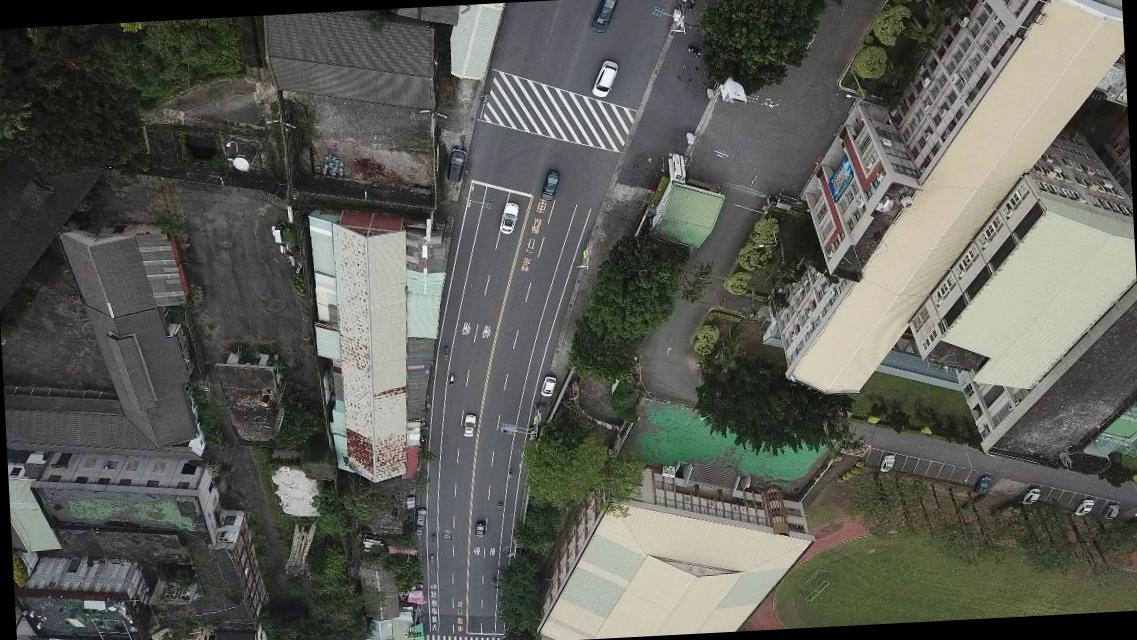vehicle: (589, 60, 620, 100), (588, 0, 619, 38), (442, 145, 466, 184), (538, 170, 562, 203), (497, 202, 520, 236), (461, 412, 478, 440), (1073, 498, 1096, 518), (539, 374, 557, 398), (1021, 488, 1042, 507), (972, 476, 991, 495), (1102, 502, 1120, 522), (877, 454, 894, 474), (414, 506, 428, 526), (474, 520, 487, 538)
